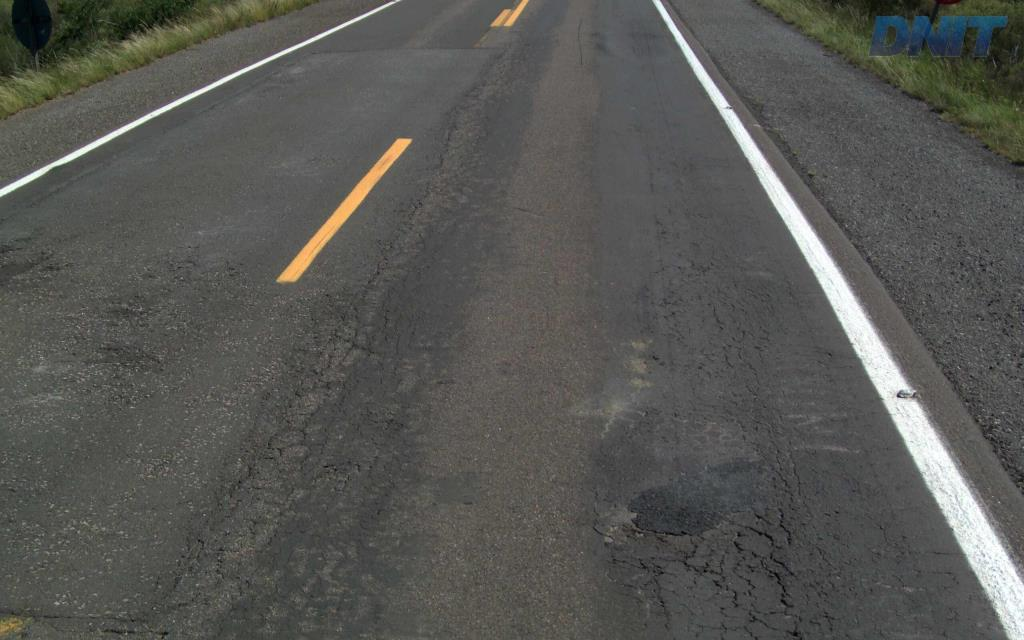crack: (737, 463, 811, 549), (751, 551, 794, 608)
